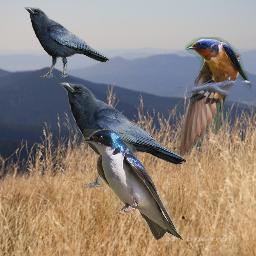Crow: (59, 82, 186, 189), (24, 7, 109, 79)
Swallow: (83, 129, 185, 242), (177, 37, 253, 157)
